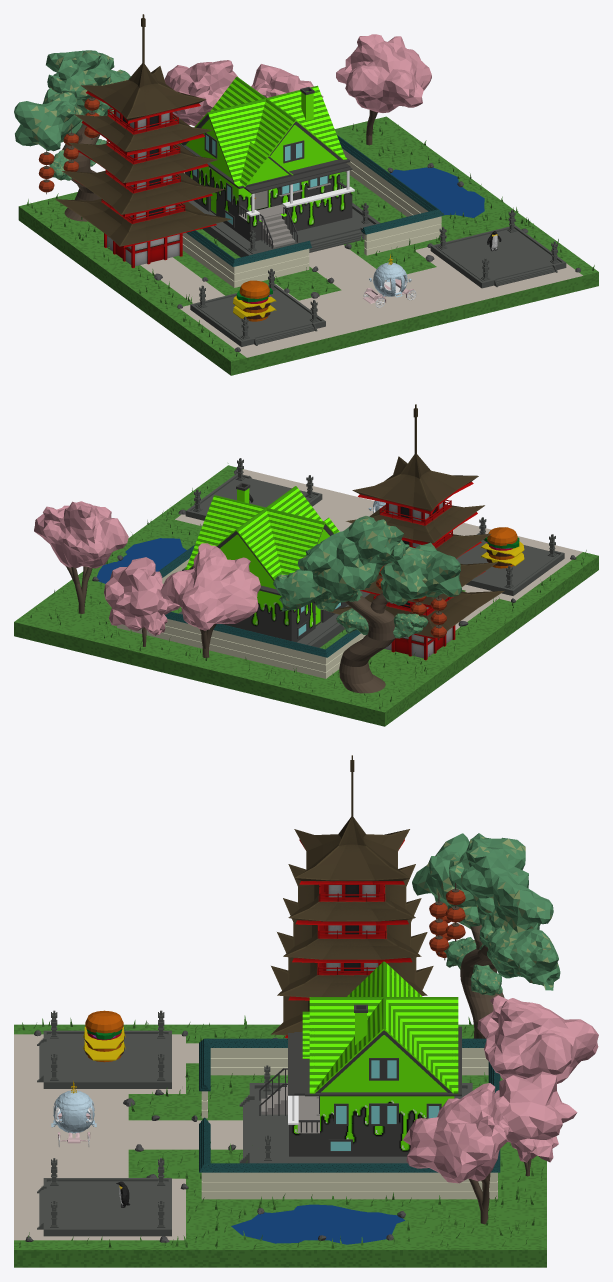
The picture shows the model from 3 angles, top to bottom: view 1: azimuth 30°, elevation 25°; view 2: azimuth 150°, elevation 25°; view 3: azimuth 270°, elevation 25°; orthographic projection. The views are drawn at different scales.
Parts seen in each view (by area): view 1: Cube.005, Cube.754, VEHICLES_FANTASY_CARRIAGE, OBJRANDOM_HAMBURGER; view 2: Cube.005, Cube.754, OBJRANDOM_HAMBURGER; view 3: Cube.005, Cube.754, OBJRANDOM_HAMBURGER, VEHICLES_FANTASY_CARRIAGE.
Part boxes in pixels (x1,y1,x2,y2): Cube.005: (14, 14, 598, 375); Cube.754: (179, 76, 354, 248); VEHICLES_FANTASY_CARRIAGE: (363, 254, 416, 307); OBJRANDOM_HAMBURGER: (233, 280, 276, 321); Cube.005: (14, 404, 598, 726); Cube.754: (182, 482, 347, 642); OBJRANDOM_HAMBURGER: (480, 527, 524, 568); Cube.005: (14, 755, 598, 1267); Cube.754: (259, 961, 461, 1156); OBJRANDOM_HAMBURGER: (83, 1010, 125, 1062); VEHICLES_FANTASY_CARRIAGE: (51, 1081, 96, 1147).
Size of the model in its own units: 4528 by 2698 by 4389.
Materials: 37 (6 with a texture image).
